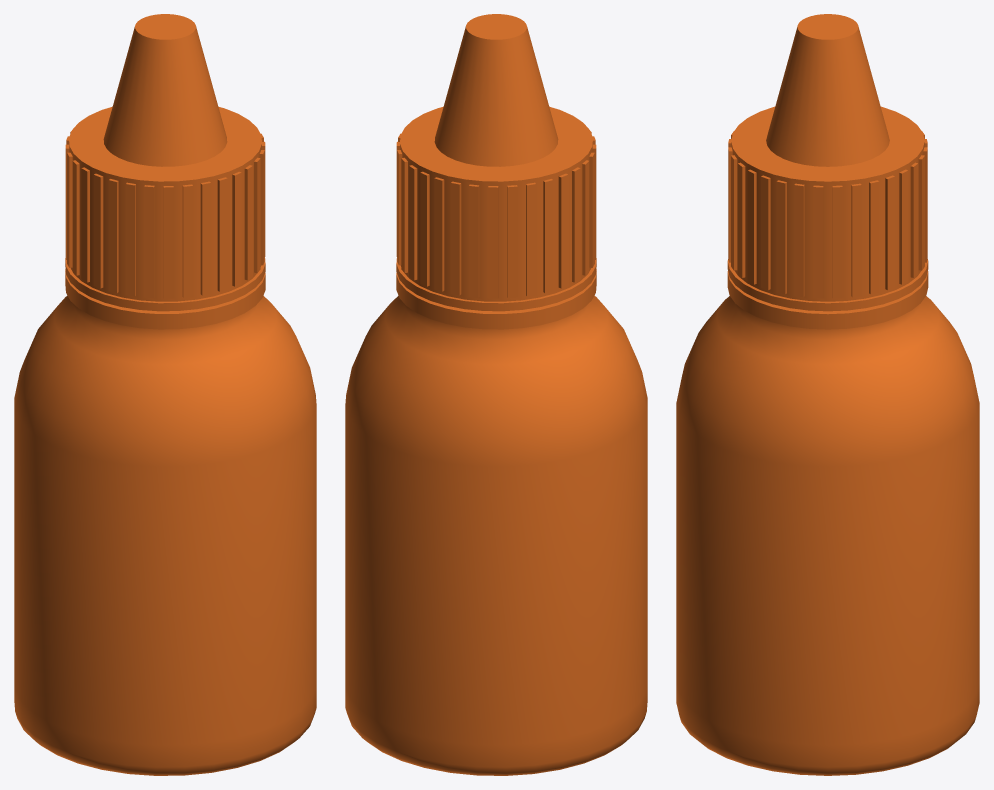
Rendered from ecodine.fbx.
3 views of the same model, side by side, from view 1: azimuth 30°, elevation 25°; view 2: azimuth 150°, elevation 25°; view 3: azimuth 270°, elevation 25° (orthographic).
Visible parts, largest first — view 1: ecodine bottle.001, ecodine cap.001; view 2: ecodine bottle.001, ecodine cap.001; view 3: ecodine bottle.001, ecodine cap.001.
Boxes of the visible parts, x1,y1,x2,y2 form: ecodine bottle.001: [14, 269, 316, 775]; ecodine cap.001: [65, 14, 265, 311]; ecodine bottle.001: [345, 269, 647, 775]; ecodine cap.001: [396, 14, 596, 311]; ecodine bottle.001: [676, 271, 979, 775]; ecodine cap.001: [727, 14, 928, 311].
Bounding box in the file's own units: 0.0281 × 0.0706 × 0.0281.
